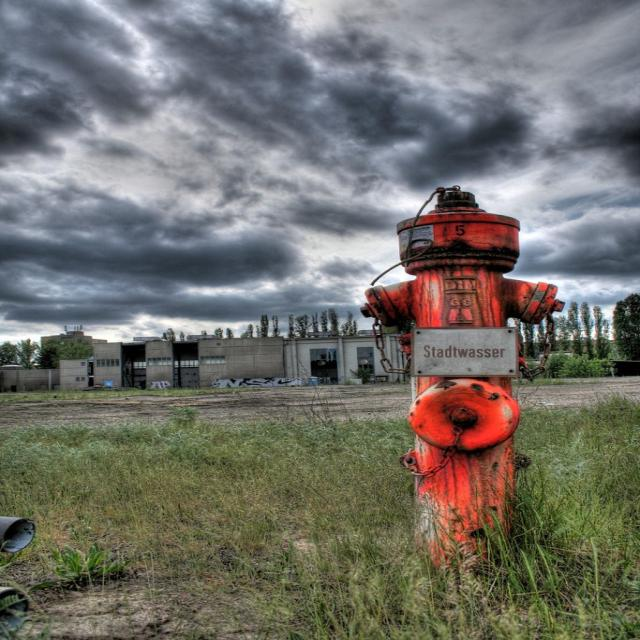fire_hydrant: (365, 188, 562, 576)
